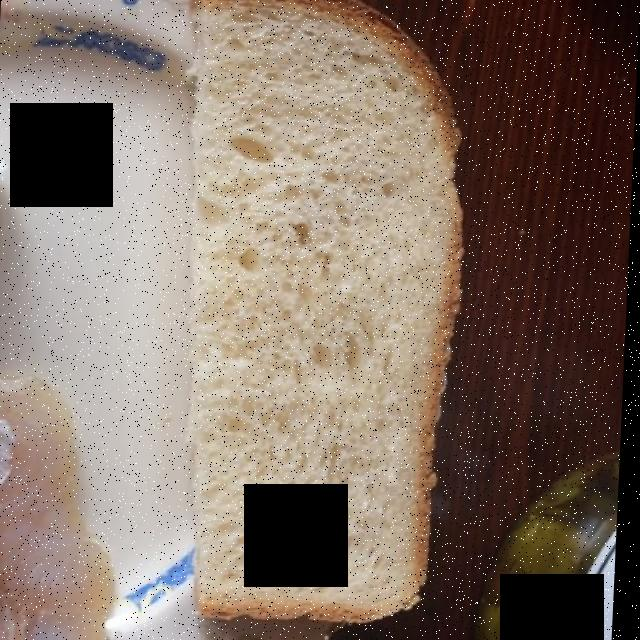bread-half-white: (186, 25, 458, 618)
